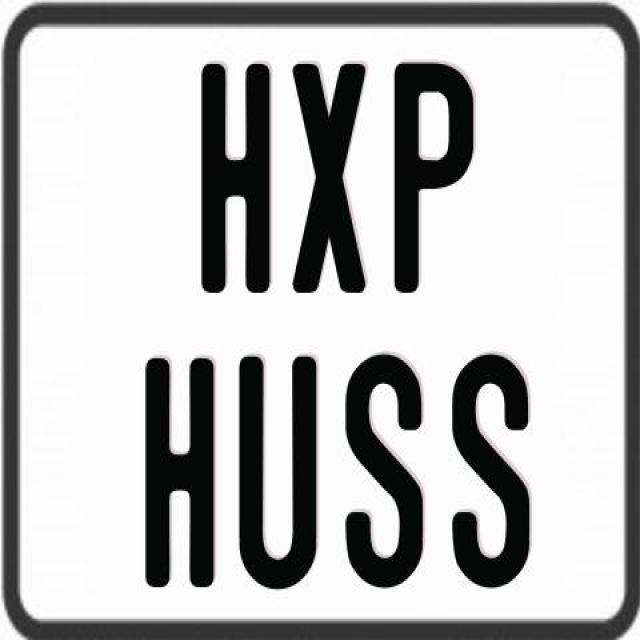H: (142, 356, 218, 594), (198, 59, 274, 290)
P: (393, 61, 475, 300)
S: (448, 352, 531, 590), (341, 353, 423, 588)
U: (237, 354, 319, 586)
X: (292, 62, 366, 292)
